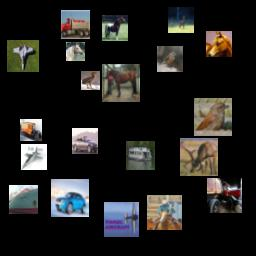airplane: (104, 202, 139, 237), (7, 40, 39, 72), (21, 144, 47, 170)
automobile: (51, 179, 89, 217), (72, 128, 98, 154)
bird: (194, 98, 232, 136), (157, 46, 183, 72), (81, 71, 100, 90)
deer: (180, 138, 218, 176), (168, 7, 194, 33)
ship: (126, 141, 155, 170), (9, 185, 38, 214)
truck: (207, 178, 242, 213), (61, 10, 90, 39), (20, 119, 42, 141)
